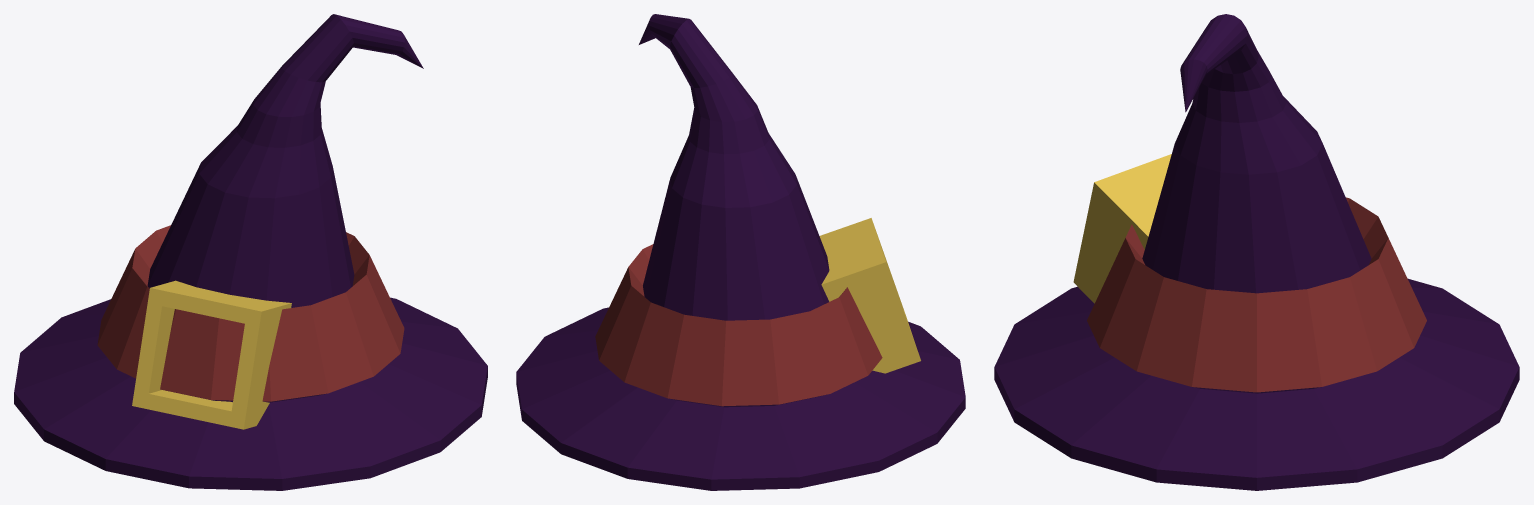
File: Witch Hat.glb
3 renders of one model, left to right at view 1: azimuth 30°, elevation 25°; view 2: azimuth 150°, elevation 25°; view 3: azimuth 270°, elevation 25°, orthographic. The views are drawn at different scales.
Parts seen in each view (by area): view 1: Cone_2, Cube_3; view 2: Cone_2, Cube_3; view 3: Cone_2, Cube_3.
Part boxes in pixels (x1=…): Cone_2: x1=14, y1=14, x2=487, y2=490; Cube_3: x1=132, y1=280, x2=291, y2=429; Cone_2: x1=516, y1=14, x2=965, y2=490; Cube_3: x1=819, y1=218, x2=920, y2=373; Cone_2: x1=994, y1=14, x2=1519, y2=490; Cube_3: x1=1073, y1=154, x2=1171, y2=303.
Bounding box in the file's own units: 0.7961 × 0.6767 × 0.7961.
